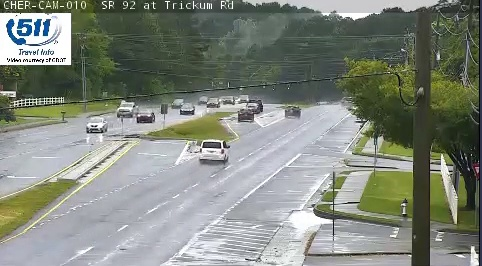car: (199, 139, 228, 161), (238, 108, 255, 122), (285, 105, 301, 117)
